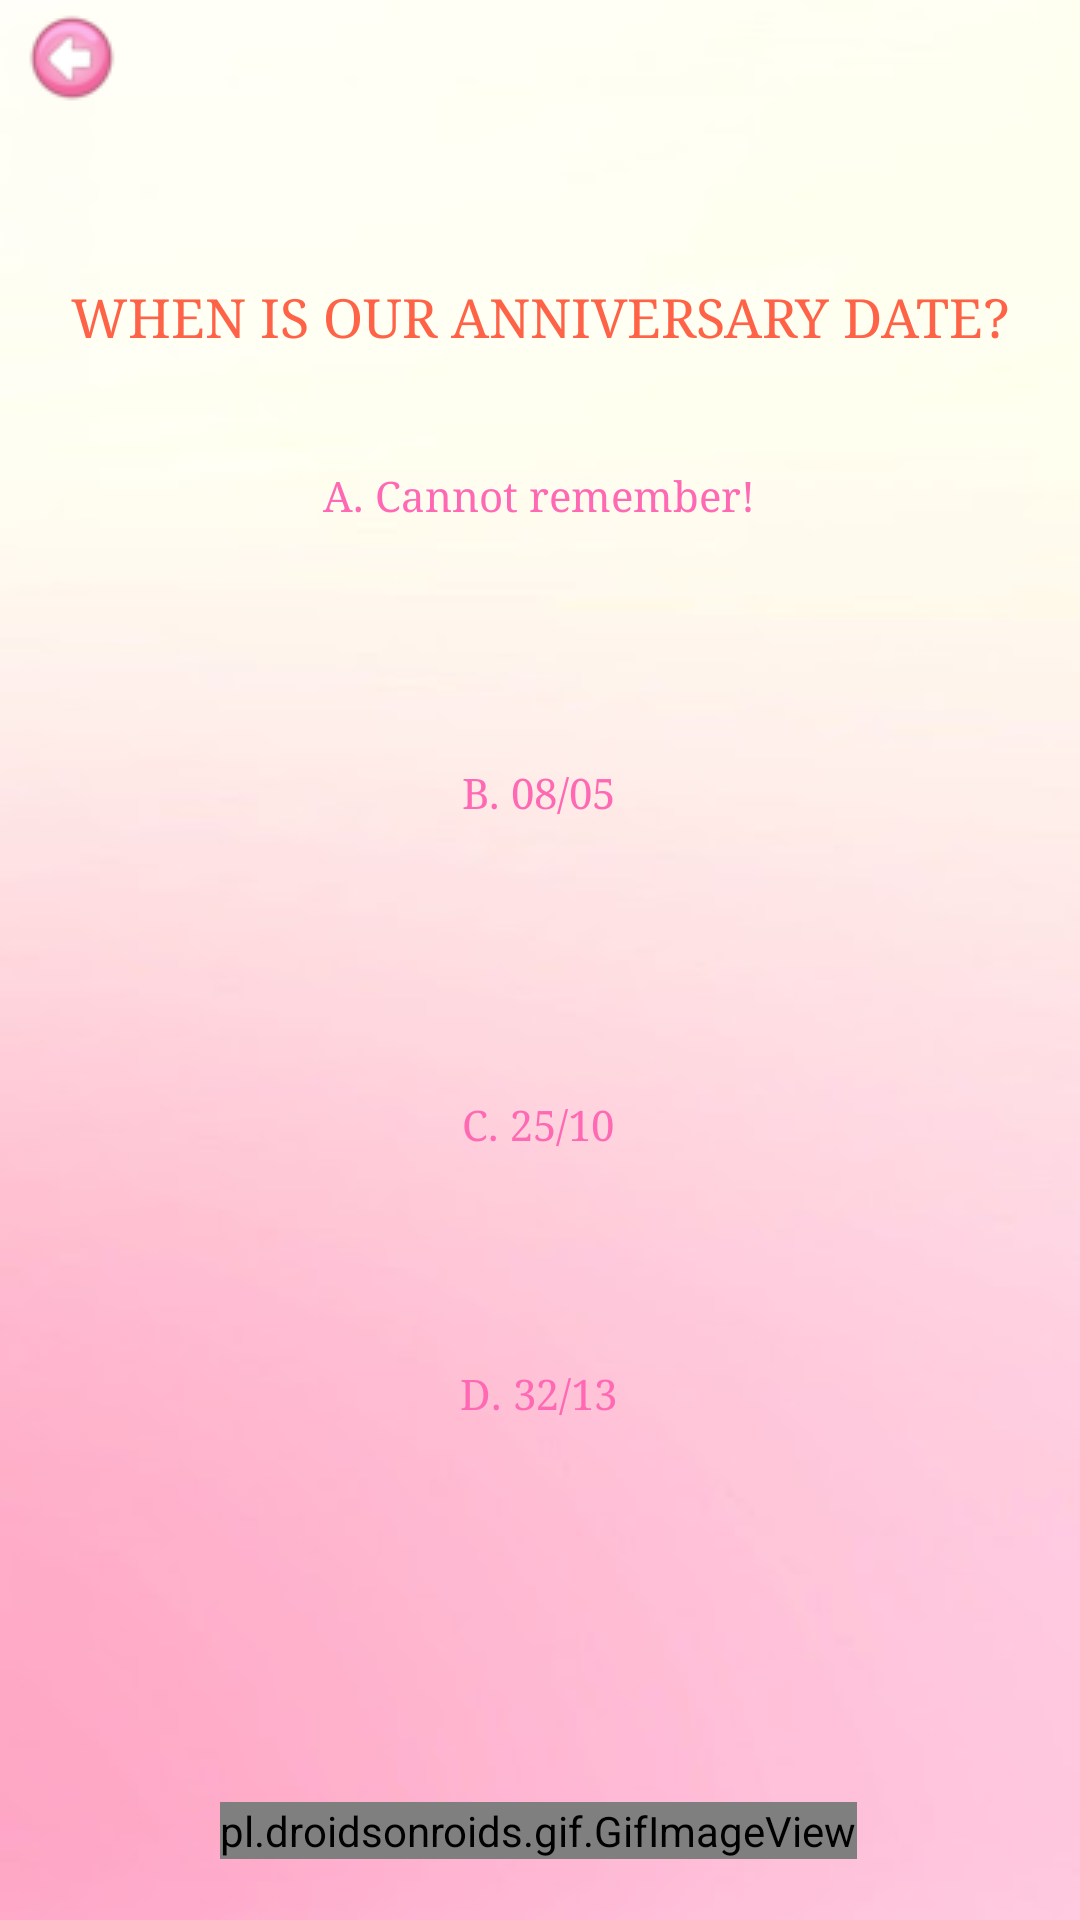

Named icons in this screenshot (1080w x 1920h) and their centers, (x,y):
backicon: (72,58)
